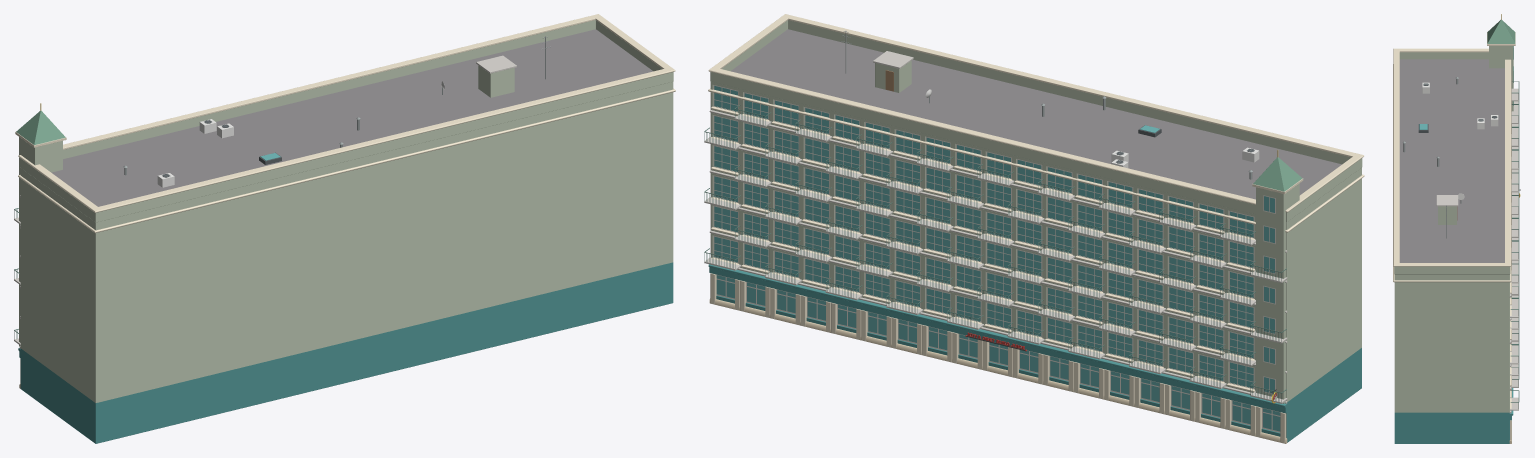
Rendered from terminus_w.glb.
The picture shows the model from 3 angles, left to right: view 1: azimuth 30°, elevation 25°; view 2: azimuth 150°, elevation 25°; view 3: azimuth 270°, elevation 25°; orthographic projection. The views are drawn at different scales.
Parts seen in each view (by area): view 1: shell, trim, props; view 2: shell, trim, props, frames; view 3: shell, trim, props.
Boxes of the visible parts, x1,y1,x2,y2 form: shell: (20, 29, 673, 443); trim: (18, 14, 675, 388); props: (14, 36, 550, 346); shell: (710, 29, 1361, 442); trim: (708, 14, 1364, 443); props: (704, 31, 1303, 403); frames: (713, 85, 1280, 432); shell: (1394, 59, 1509, 443); trim: (1393, 48, 1513, 443); props: (1402, 14, 1519, 410).
Size of the model in its own units: 62.36 by 29.35 by 15.51.
